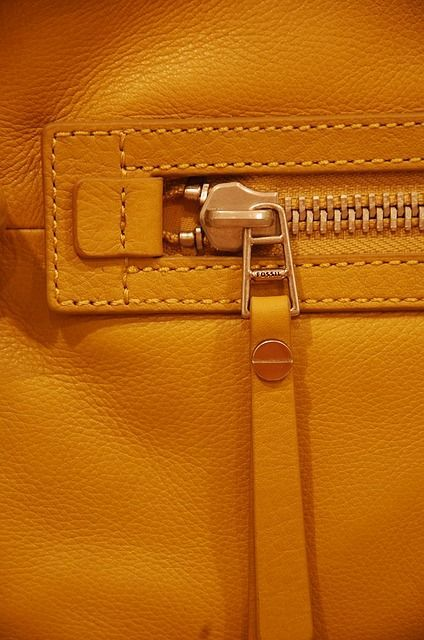cuero: (1, 1, 424, 640)
